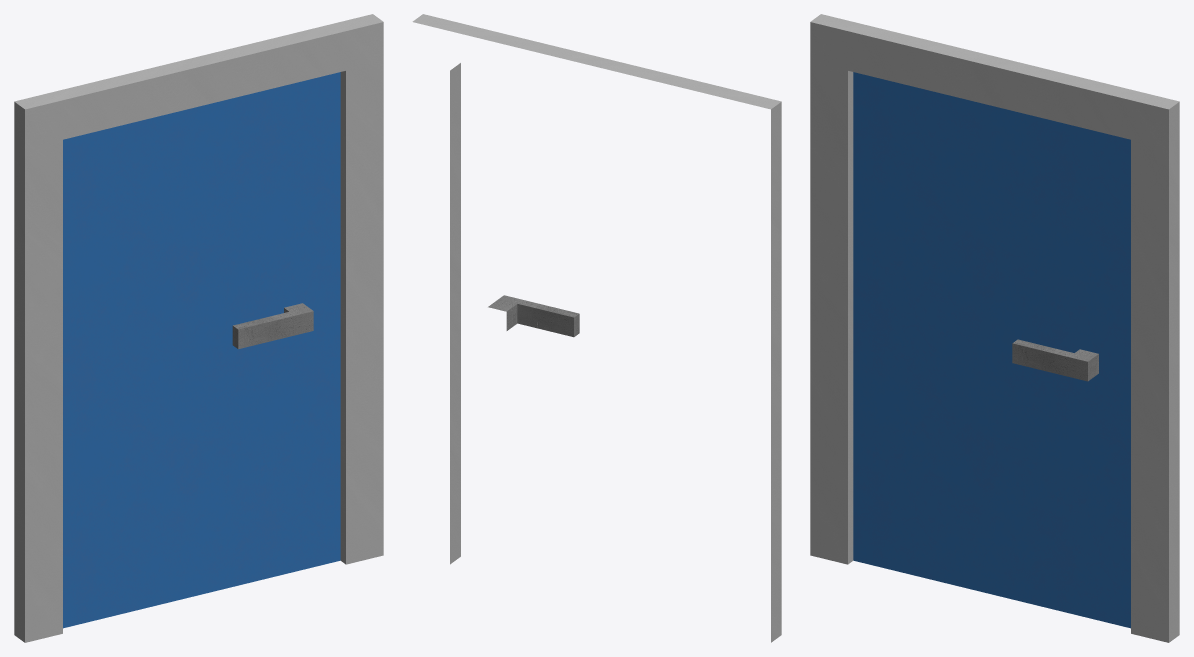
Rendered from door.glb.
3 renders of one model, left to right at view 1: azimuth 30°, elevation 25°; view 2: azimuth 150°, elevation 25°; view 3: azimuth 330°, elevation 25°, orthographic.
Visible parts, largest first — view 1: Cube.010 (×3); view 2: Cube.010 (×2); view 3: Cube.010 (×3).
Boxes of the visible parts, bbox=[...] form: Cube.010 (×3): bbox=[14, 14, 383, 642]; Cube.010 (×2): bbox=[412, 14, 781, 642]; Cube.010 (×3): bbox=[810, 14, 1179, 642].
Size of the model in its own units: 1.9 by 2.7 by 0.15.
Materials: 3 (3 with a texture image).
